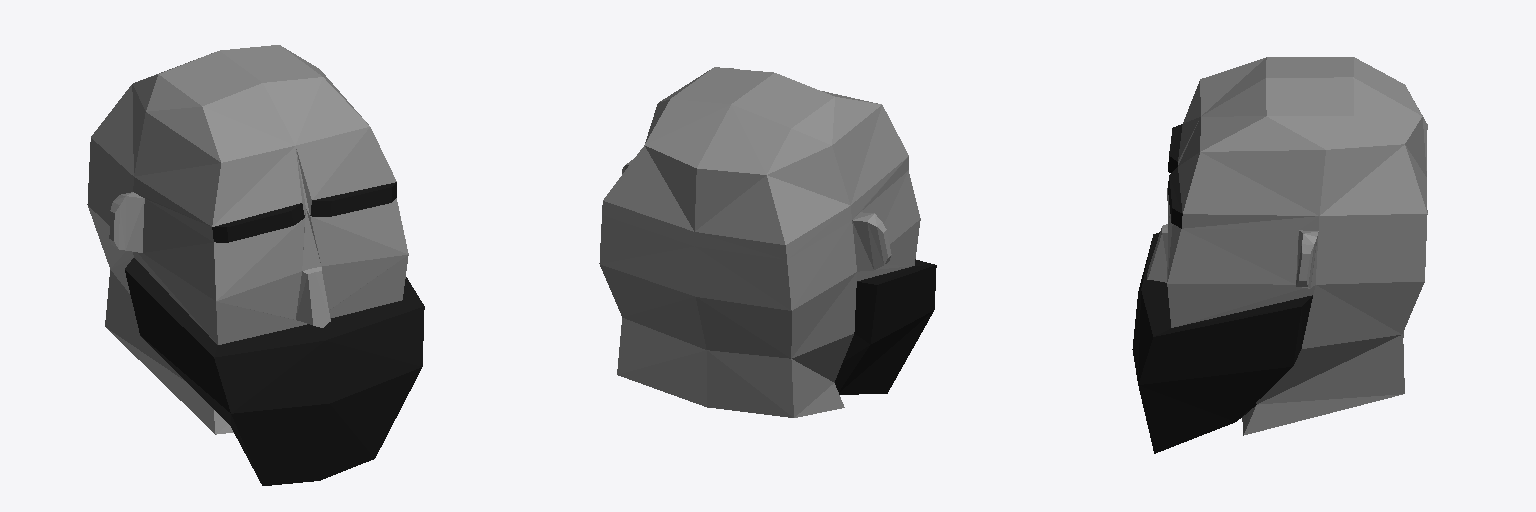
The picture shows the model from 3 angles: view 1: azimuth 30°, elevation 25°; view 2: azimuth 150°, elevation 25°; view 3: azimuth 270°, elevation 25°; orthographic projection.
Visible parts, largest first — view 1: Cube; view 2: Cube; view 3: Cube.
Boxes of the visible parts, x1=… form: Cube: x1=87, y1=45, x2=424, y2=485; Cube: x1=599, y1=67, x2=936, y2=417; Cube: x1=1132, y1=57, x2=1427, y2=453.
Size of the model in its own units: 0.5389 by 0.6894 by 0.5163.
3 materials, 1 textured.